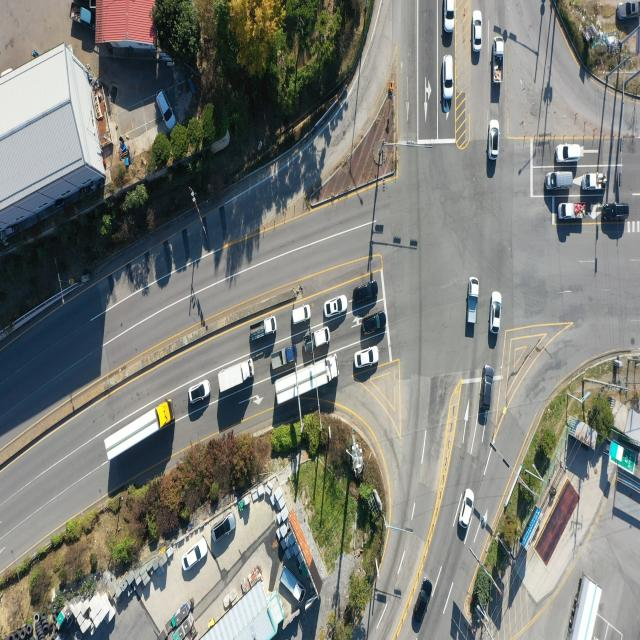car: (181, 538, 208, 576), (415, 578, 432, 621), (158, 90, 176, 130), (212, 516, 235, 546), (602, 202, 629, 226), (459, 488, 474, 528), (361, 314, 386, 338), (187, 380, 210, 406), (354, 346, 379, 369), (546, 170, 574, 190), (352, 282, 377, 304), (481, 366, 493, 410), (490, 292, 502, 335), (557, 143, 582, 163), (444, 55, 455, 100), (324, 297, 346, 319), (617, 0, 640, 20), (489, 119, 500, 159), (290, 305, 310, 326), (472, 11, 482, 52), (446, 0, 456, 32)
medium_truck: (104, 399, 172, 464), (272, 352, 338, 405), (566, 577, 602, 640), (218, 358, 254, 395)
small_truck: (281, 569, 305, 606), (252, 318, 279, 345), (271, 344, 297, 370), (307, 328, 333, 352), (466, 276, 479, 324), (493, 39, 505, 86), (558, 202, 586, 221), (68, 2, 91, 23), (583, 172, 607, 191)
